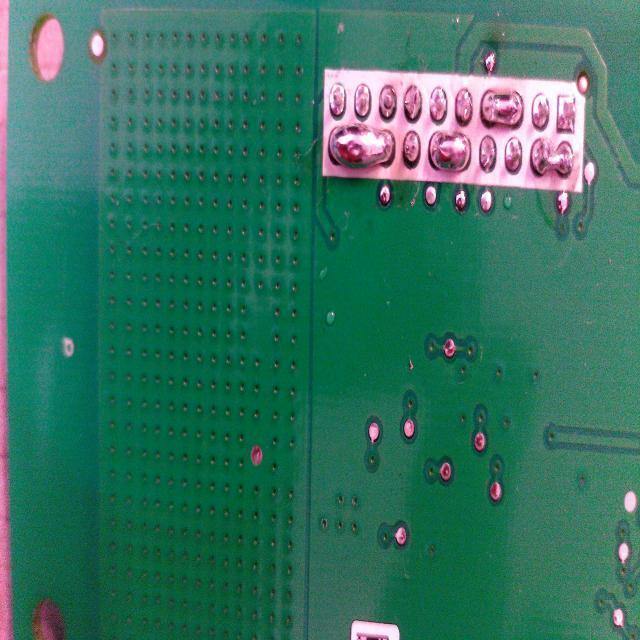Soldering shorted: (327, 122, 398, 178), (530, 137, 576, 189), (482, 84, 524, 134), (426, 130, 474, 173)
